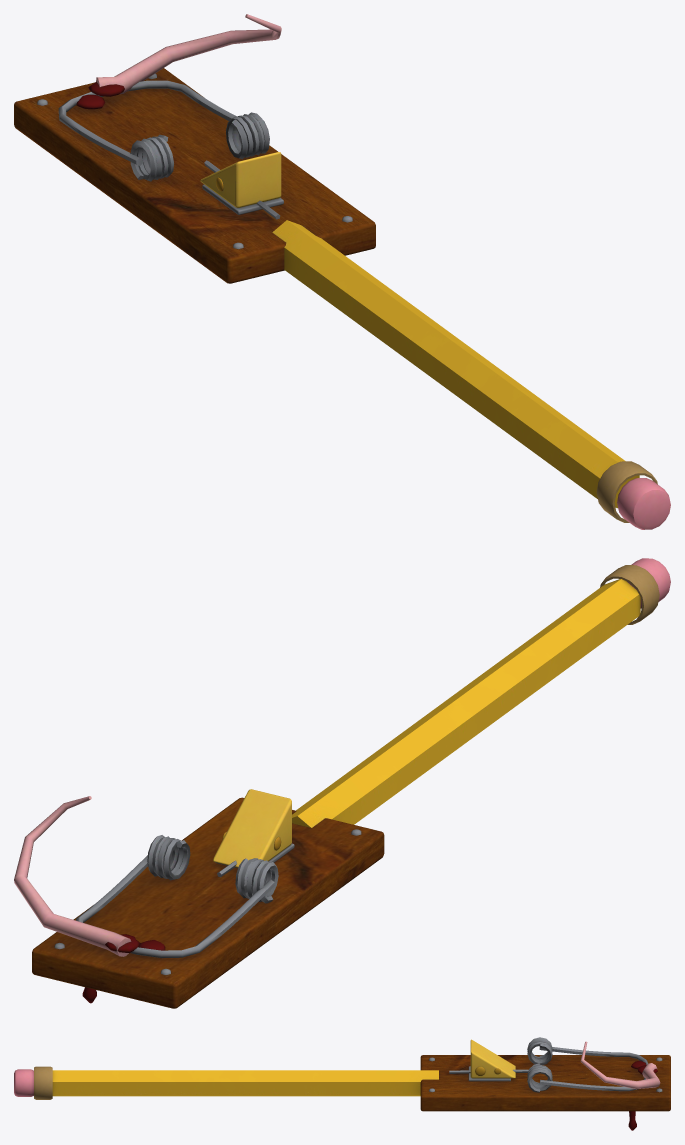
File: melee_mousetrap_mallet.glb
3 views of the same model, one above another, from view 1: azimuth 30°, elevation 25°; view 2: azimuth 150°, elevation 25°; view 3: azimuth 270°, elevation 25° (orthographic). The views are drawn at different scales.
Parts seen in each view (by area): view 1: melee_mousetrap_mallet; view 2: melee_mousetrap_mallet; view 3: melee_mousetrap_mallet.
Part boxes in pixels (x1,y1,x2,y2): melee_mousetrap_mallet: (14,14,670,529); melee_mousetrap_mallet: (14,558,670,1008); melee_mousetrap_mallet: (14,1037,670,1130).
Size of the model in its own units: 0.1066 by 0.0835 by 0.4945.
1 material, 1 textured.
